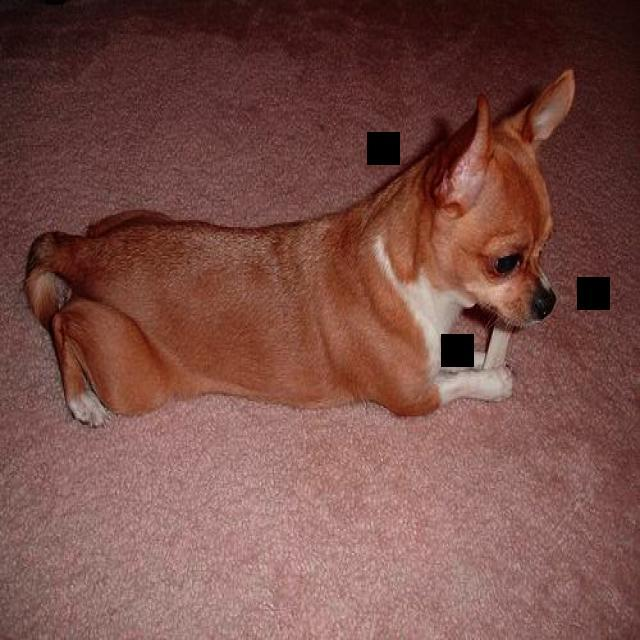adult_dog: (16, 60, 577, 429)
